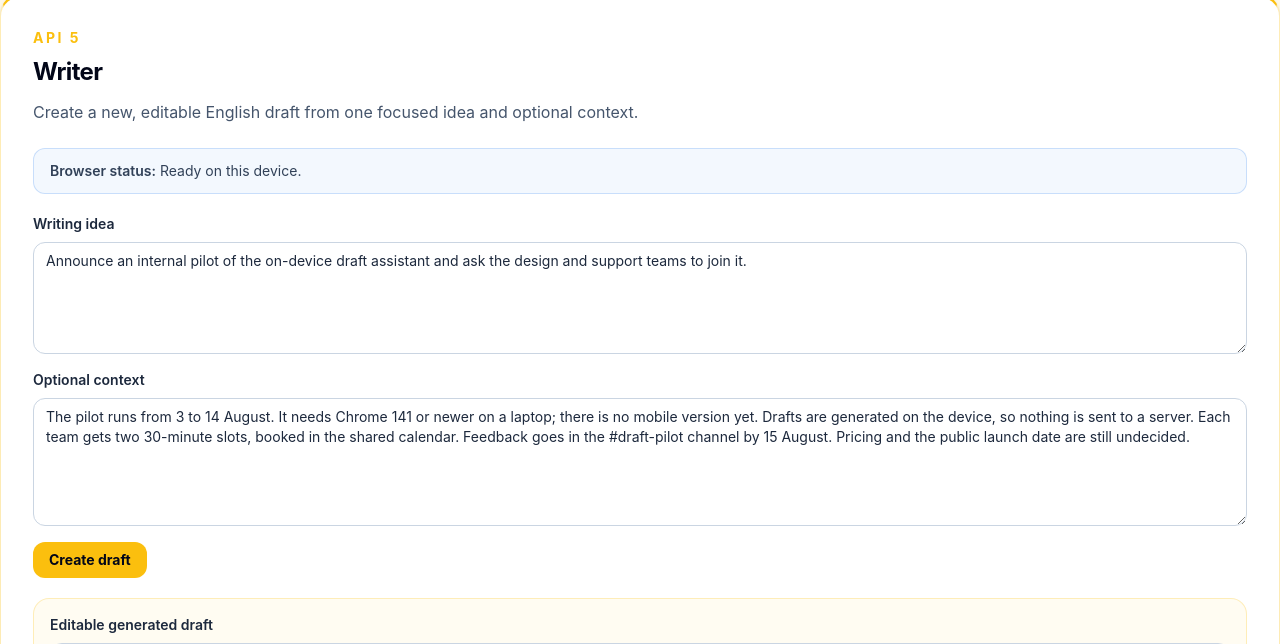
Scenario: Writer demo › keeps the idea and exposes an editable generated draft
Click the button "Create draft": (90,560) left=33, top=542, right=147, bottom=578
(page scrolled)
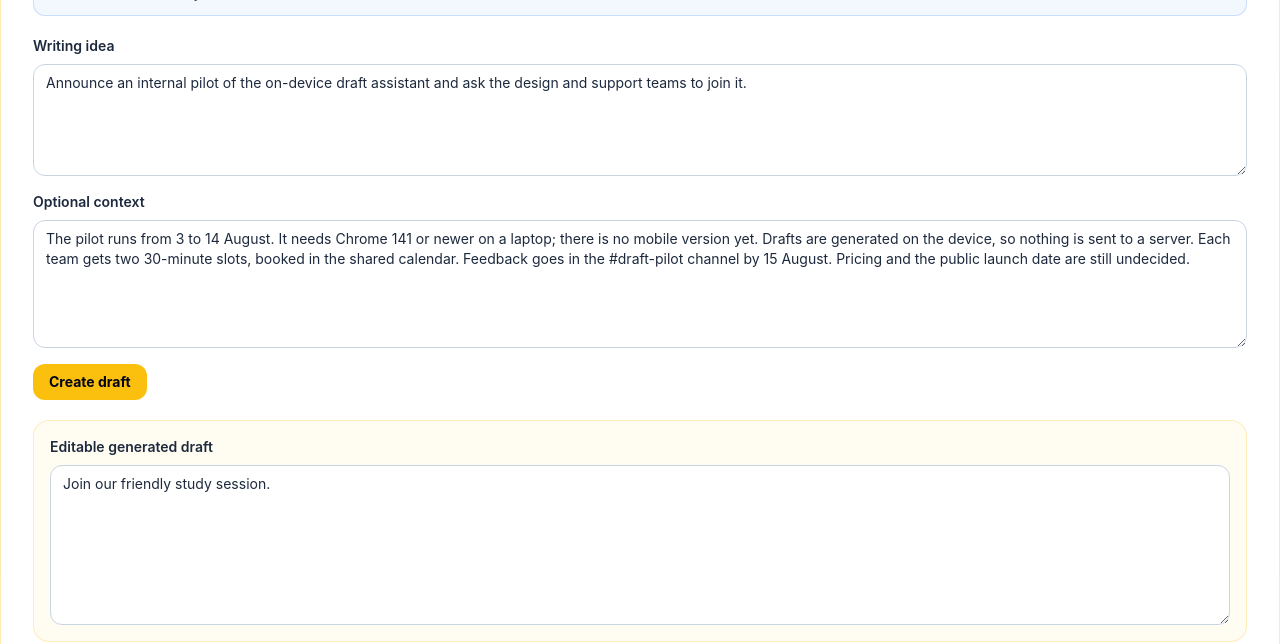
Expected: the text box labelled "Writing idea" holds "Announce an internal pilot of the on-device draft assistant and ask the design and support teams to join it.", left=33, top=64, right=1247, bottom=176
Expected: the text box labelled "Editable generated draft" holds "Join our friendly study session."
In the text box labelled "Editable generated draft": (640,545) left=50, top=465, right=1230, bottom=625, type " Please RSVP."
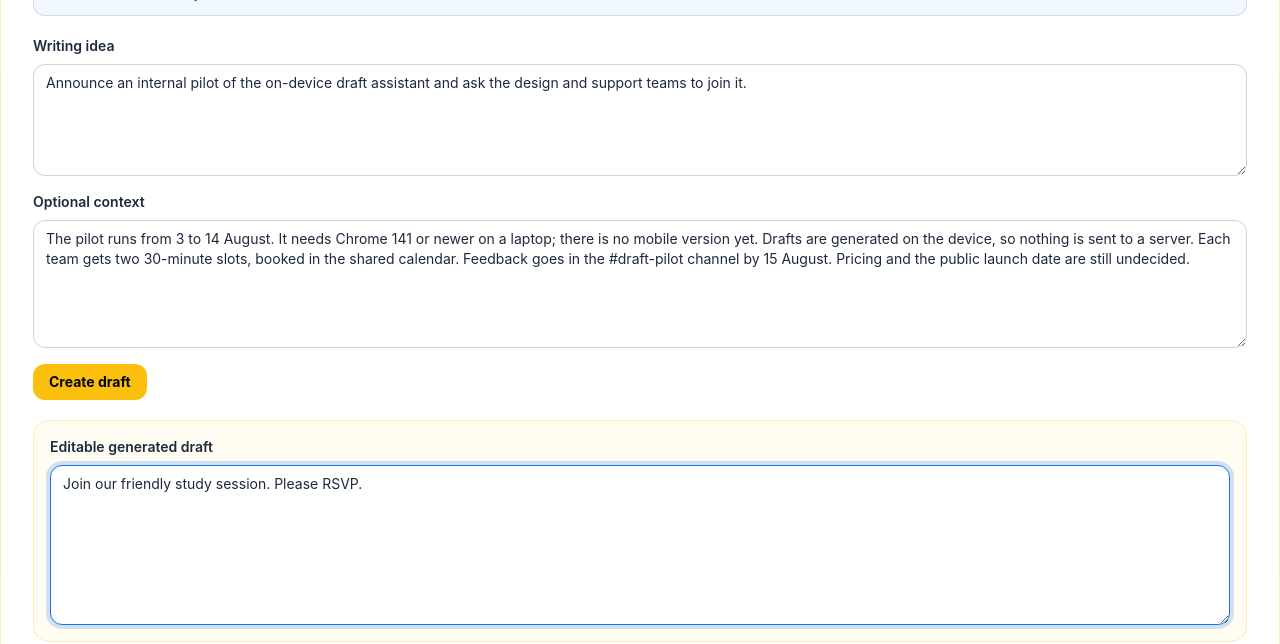
Expected: the text box labelled "Editable generated draft" holds "Join our friendly study session. Please RSVP.", left=50, top=465, right=1230, bottom=625
